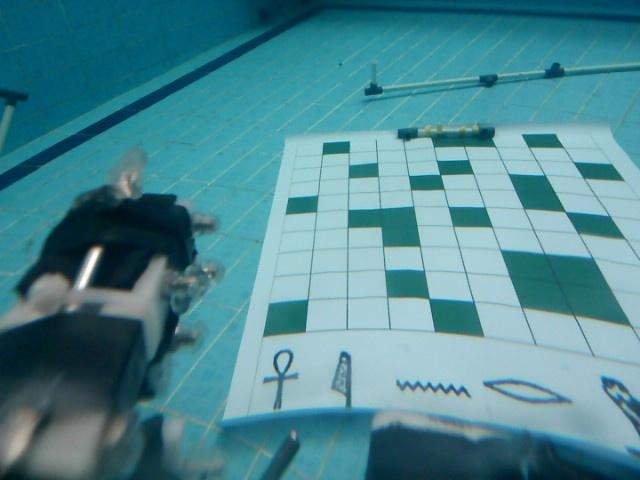Ankh: (261, 345, 297, 410)
Mouth: (481, 371, 570, 408)
Reed: (327, 349, 356, 416)
Water: (396, 376, 471, 402)
